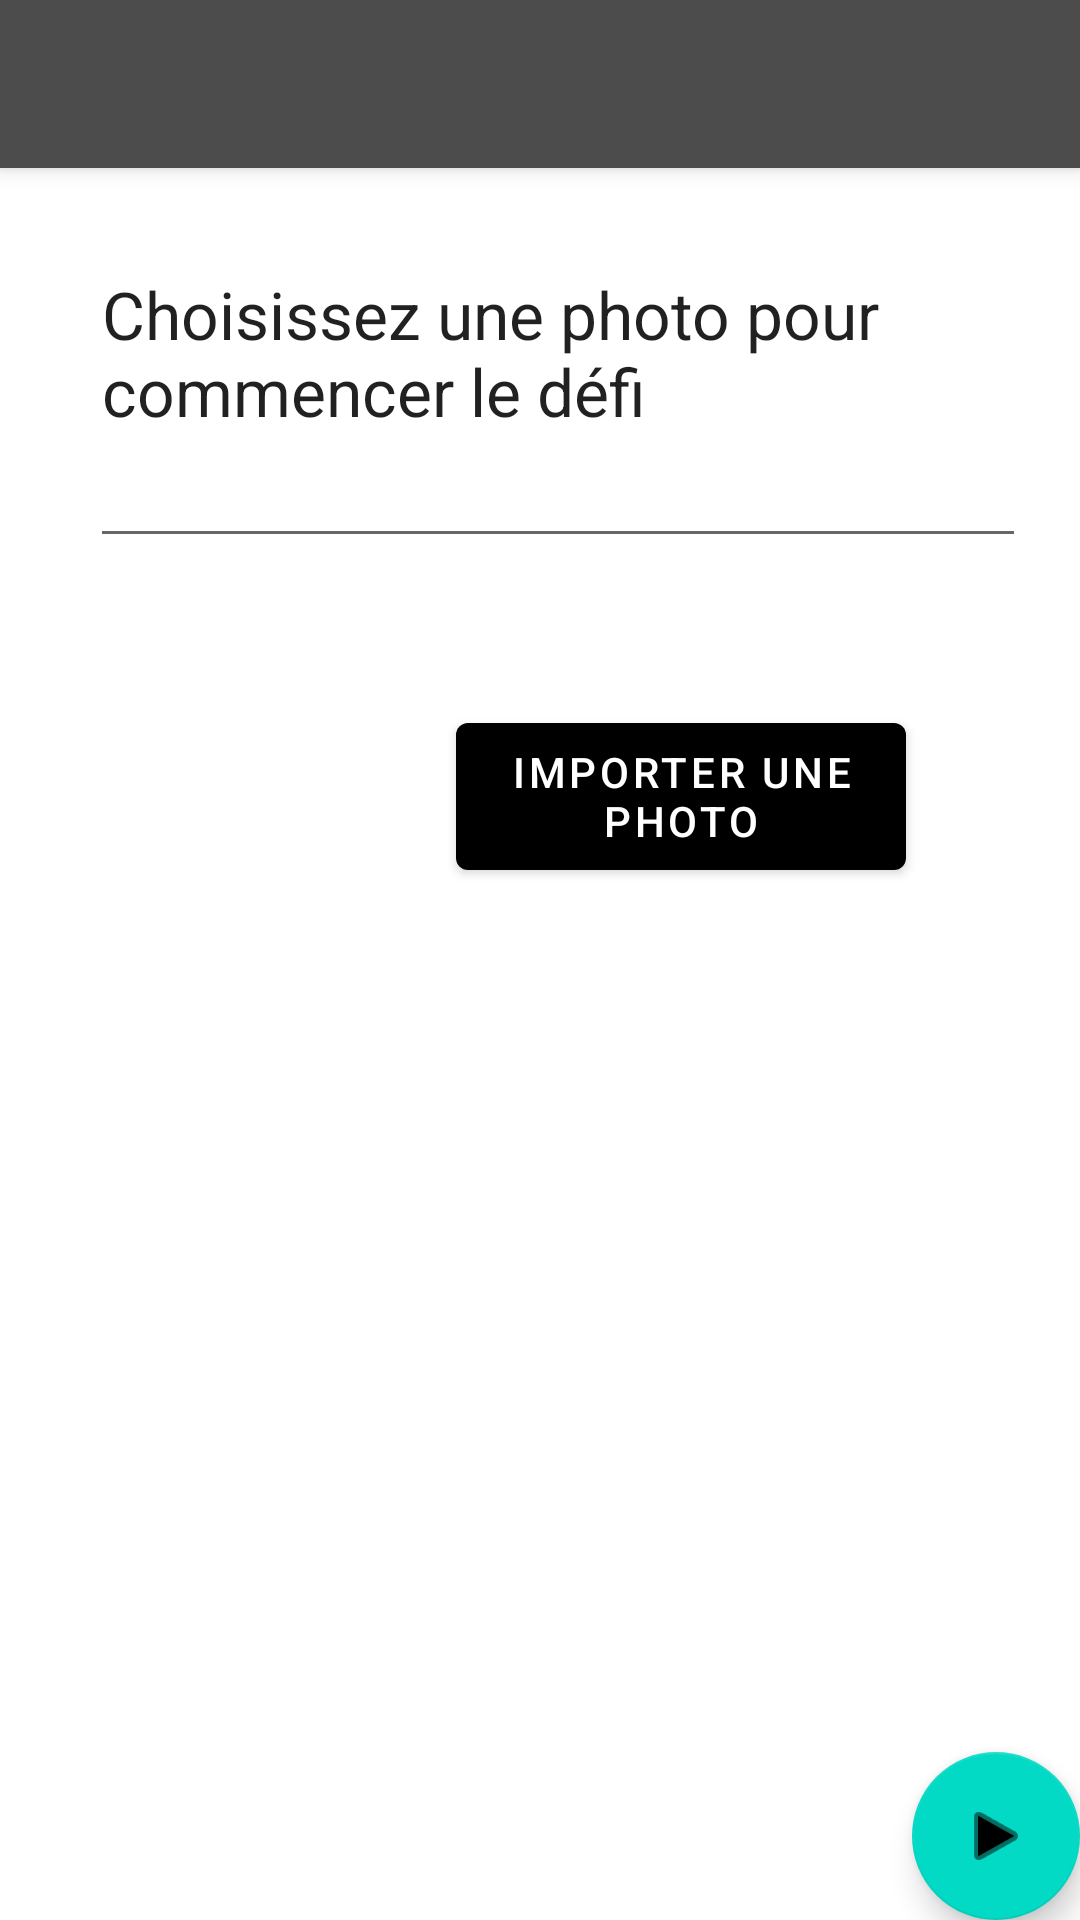

Named icons in this screenshot (1080x1920) and their bounding boxes, bbox=[x1, y1, x2, y2]:
play: bbox=[912, 1752, 1080, 1920]
